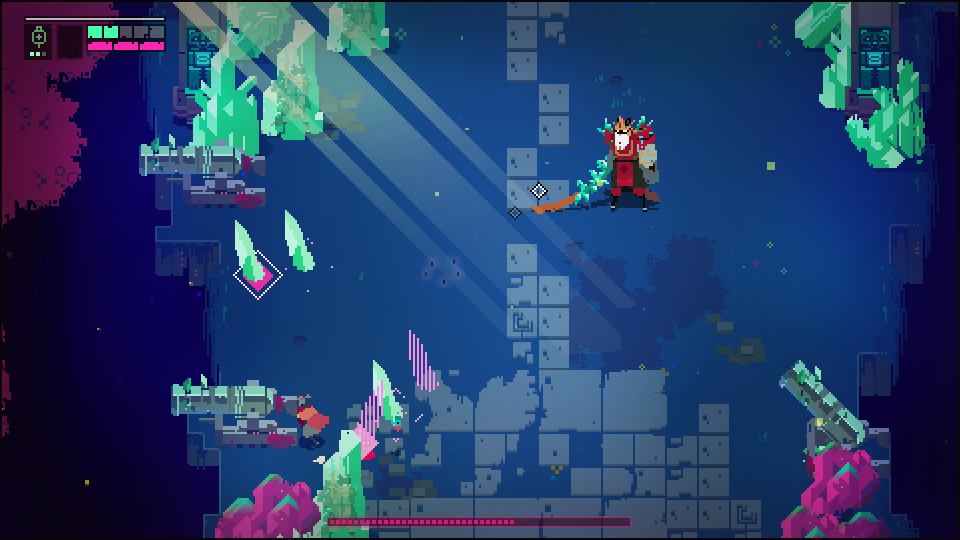hanged_crys: (372, 361, 406, 426), (234, 219, 265, 283), (285, 206, 315, 272), (408, 328, 437, 392)
hanged_man: (567, 109, 659, 213)
player: (294, 394, 331, 443)
